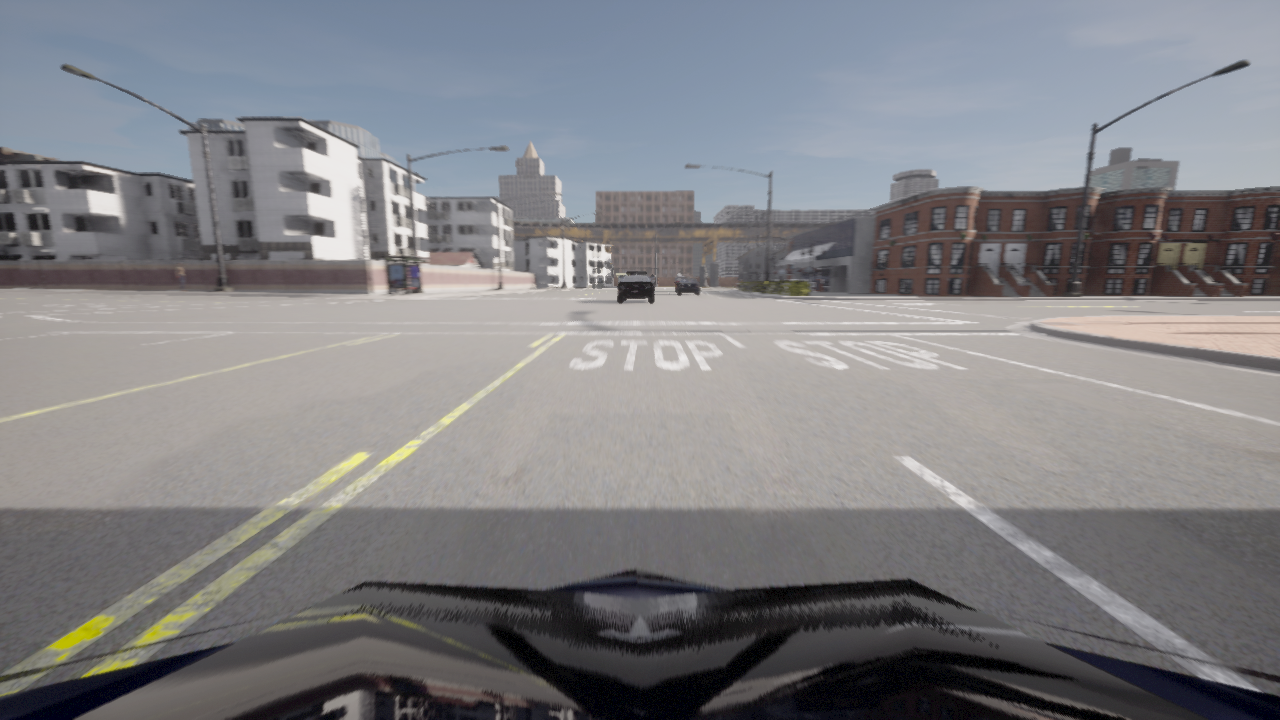cyclist: (0, 569, 1279, 719), (618, 272, 654, 302), (676, 279, 699, 294), (675, 274, 690, 291)
pedestrian: (175, 262, 185, 290)
